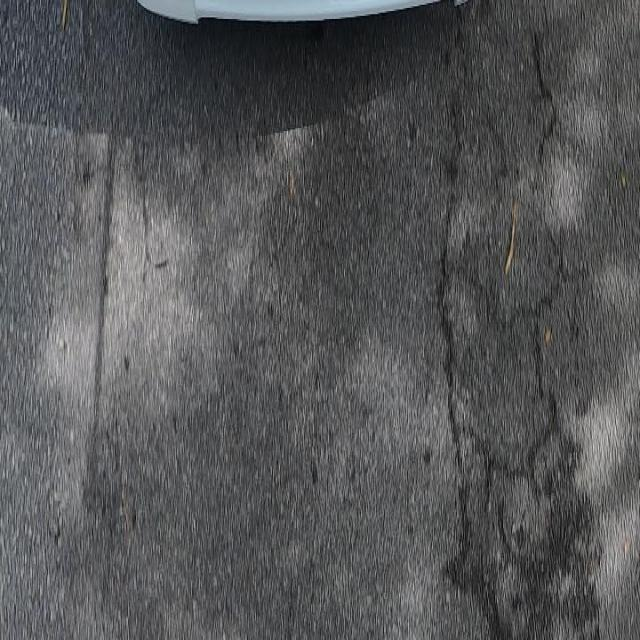cracks: (434, 1, 596, 616), (56, 78, 126, 611)
